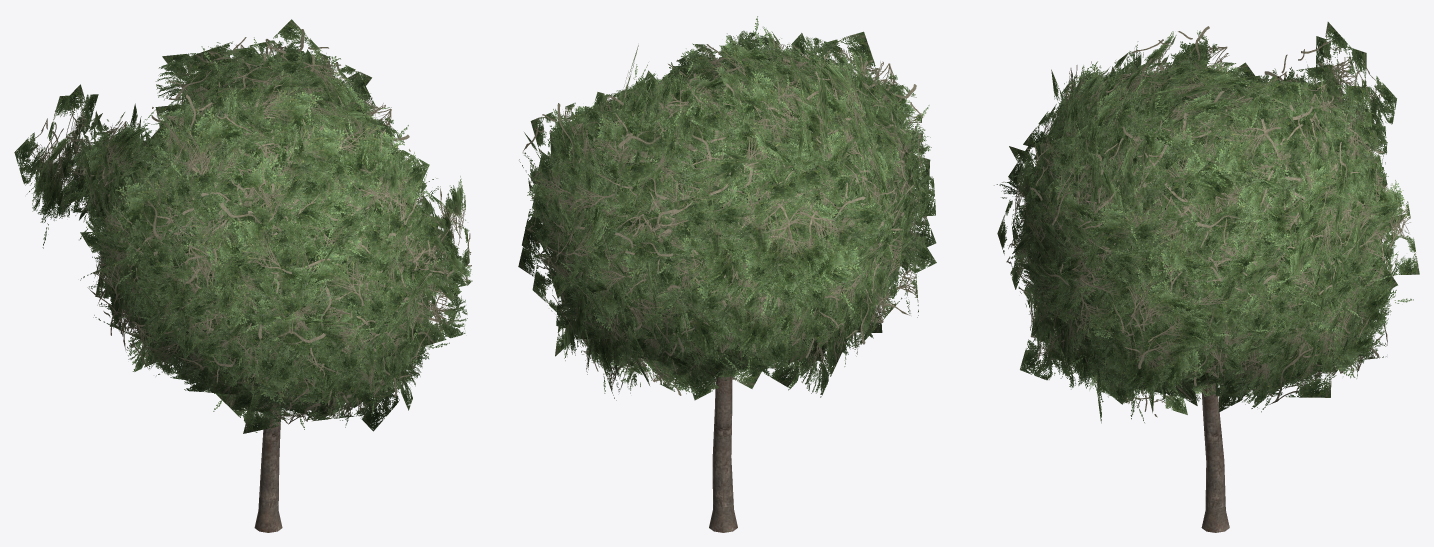
Rendered from tree-03.glb.
3 renders of one model, left to right at view 1: azimuth 30°, elevation 25°; view 2: azimuth 150°, elevation 25°; view 3: azimuth 270°, elevation 25°, orthographic. The views are drawn at different scales.
Visible parts, largest first — view 1: tree-03; view 2: tree-03; view 3: tree-03.
Boxes of the visible parts, x1=… form: tree-03: x1=14, y1=19, x2=472, y2=532; tree-03: x1=518, y1=16, x2=936, y2=532; tree-03: x1=994, y1=22, x2=1419, y2=532.
Bounding box in the file's own units: 5.23 × 6.2 × 5.15.
2 materials, 2 textured.
